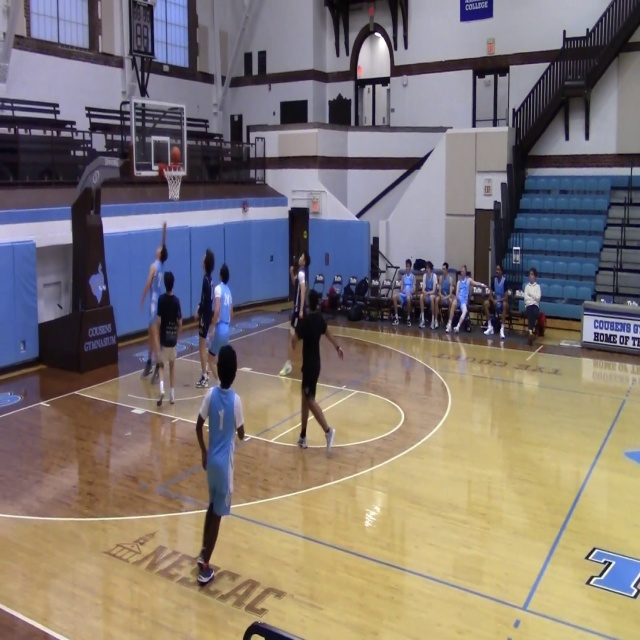Basketball: (171, 146, 181, 163), (158, 163, 167, 179)
